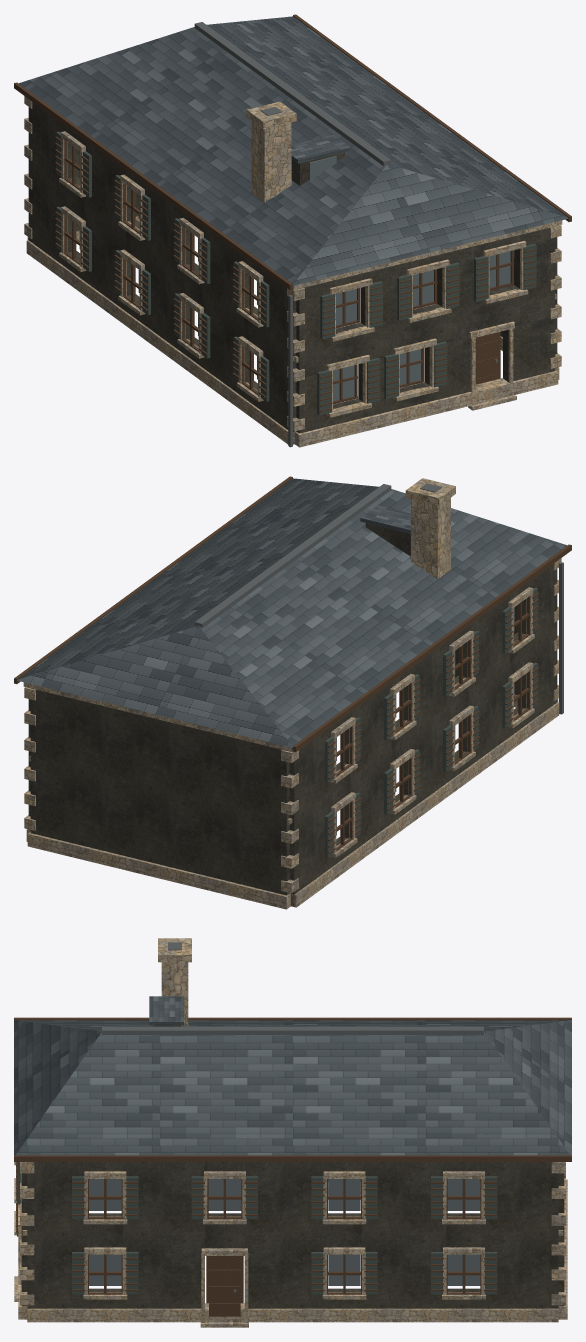
The model's file is townhouse_plaster_hip_9x16.glb.
3 views of the same model, one above another, from view 1: azimuth 30°, elevation 25°; view 2: azimuth 150°, elevation 25°; view 3: azimuth 270°, elevation 25° (orthographic).
Visible parts, largest first — view 1: TownhousePlasterHip; view 2: TownhousePlasterHip; view 3: TownhousePlasterHip.
Part boxes in pixels (x1,y1,x2,y2): TownhousePlasterHip: (14,14,571,447); TownhousePlasterHip: (14,476,571,909); TownhousePlasterHip: (14,938,571,1327).
Bounding box in the file's own units: 9.91 × 9.11 × 16.8.
Materials: 7 (5 with a texture image).
